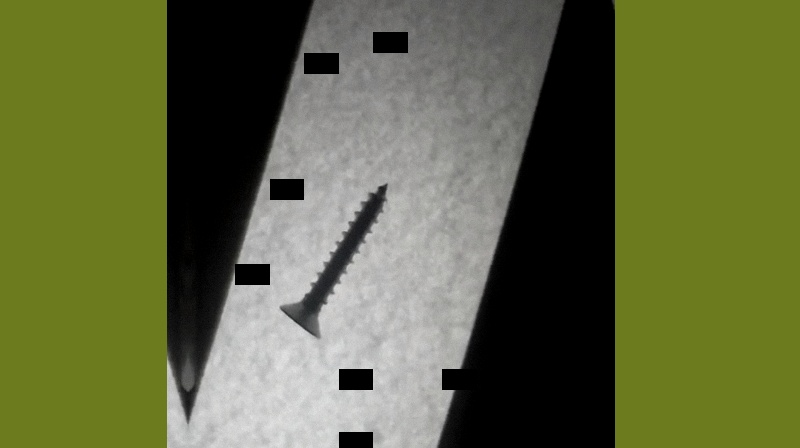S001: (276, 181, 391, 341)
